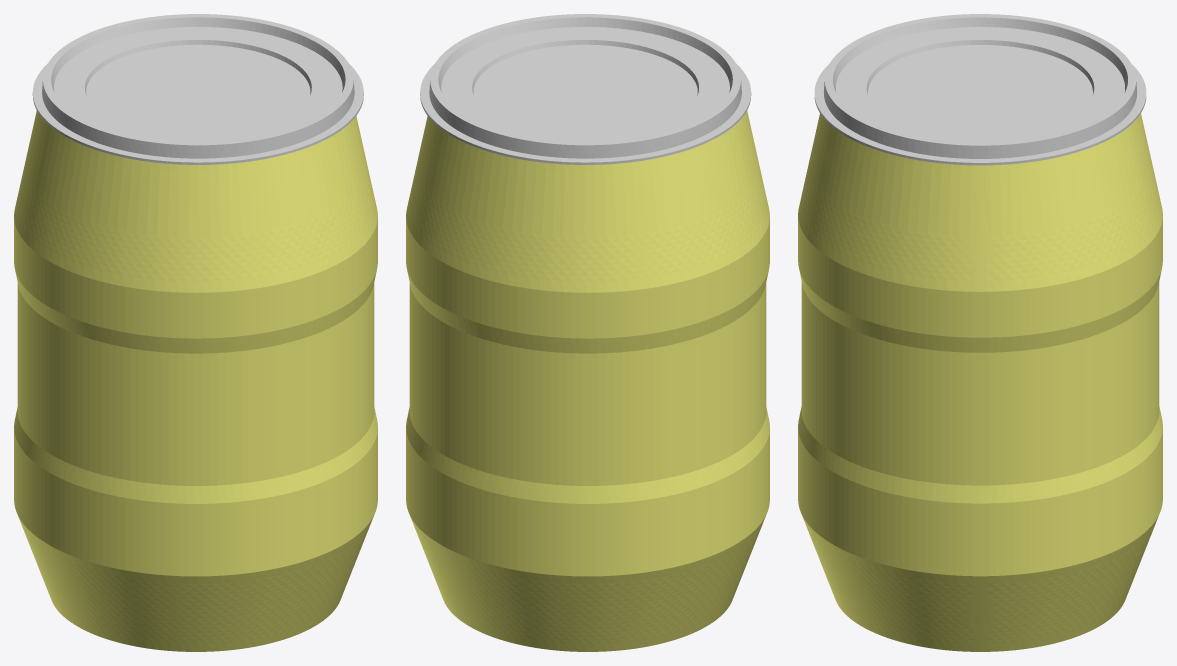
File: barril_plastic.glb
The picture shows the model from 3 angles, left to right: view 1: azimuth 30°, elevation 25°; view 2: azimuth 150°, elevation 25°; view 3: azimuth 270°, elevation 25°; orthographic projection.
Visible parts, largest first — view 1: Asset3DLoader.sceneRoot; view 2: Asset3DLoader.sceneRoot; view 3: Asset3DLoader.sceneRoot.
Boxes of the visible parts, bbox=[...] form: Asset3DLoader.sceneRoot: bbox=[14, 14, 377, 651]; Asset3DLoader.sceneRoot: bbox=[406, 14, 769, 651]; Asset3DLoader.sceneRoot: bbox=[798, 14, 1162, 651].
Bounding box in the file's own units: 400 × 618 × 400.
